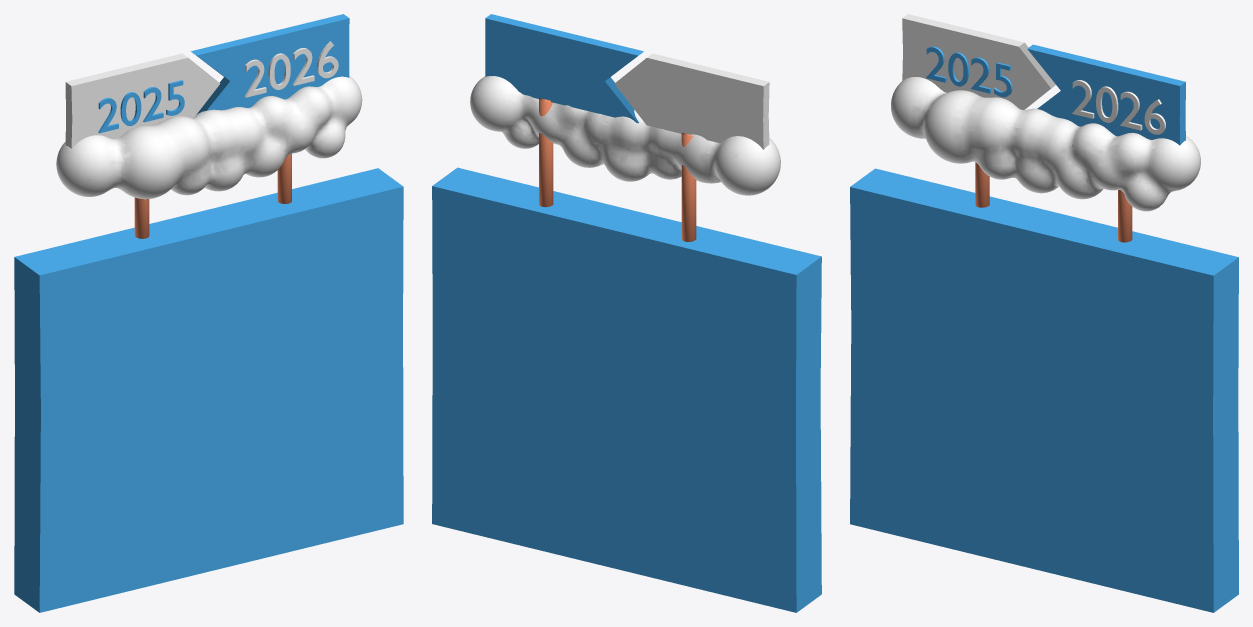
3 views of the same model, side by side, from view 1: azimuth 30°, elevation 25°; view 2: azimuth 150°, elevation 25°; view 3: azimuth 330°, elevation 25° (orthographic).
Parts seen in each view (by area): view 1: Cube.008, Mball.020, Cube.006, Cube.007, Text.015, Text.014, Cylinder.001, Cylinder; view 2: Cube.008, Mball.020, Cube.006, Cube.007, Cylinder, Cylinder.001; view 3: Cube.008, Mball.020, Cube.006, Cube.007, Text.015, Text.014, Cylinder.001, Cylinder.
Part boxes in pixels (bbox=[...]): Cube.008: bbox=[14, 168, 403, 612]; Mball.020: bbox=[56, 76, 362, 199]; Cube.006: bbox=[191, 14, 349, 114]; Cube.007: bbox=[65, 53, 220, 148]; Text.015: bbox=[244, 41, 338, 97]; Text.014: bbox=[98, 80, 184, 133]; Cylinder.001: bbox=[277, 154, 291, 203]; Cylinder: bbox=[134, 197, 149, 238]; Cube.008: bbox=[432, 167, 821, 612]; Mball.020: bbox=[470, 76, 780, 195]; Cube.006: bbox=[485, 14, 643, 123]; Cube.007: bbox=[614, 53, 769, 149]; Cylinder: bbox=[681, 133, 696, 241]; Cylinder.001: bbox=[539, 98, 553, 207]; Cube.008: bbox=[850, 168, 1238, 612]; Mball.020: bbox=[891, 77, 1200, 211]; Cube.006: bbox=[1027, 44, 1185, 145]; Cube.007: bbox=[902, 14, 1055, 109]; Text.015: bbox=[1072, 80, 1165, 134]; Text.014: bbox=[926, 46, 1012, 97]; Cylinder.001: bbox=[1118, 190, 1132, 242]; Cylinder: bbox=[975, 162, 989, 207].
Size of the model in its own units: 11.27 by 15.06 by 2.42.
